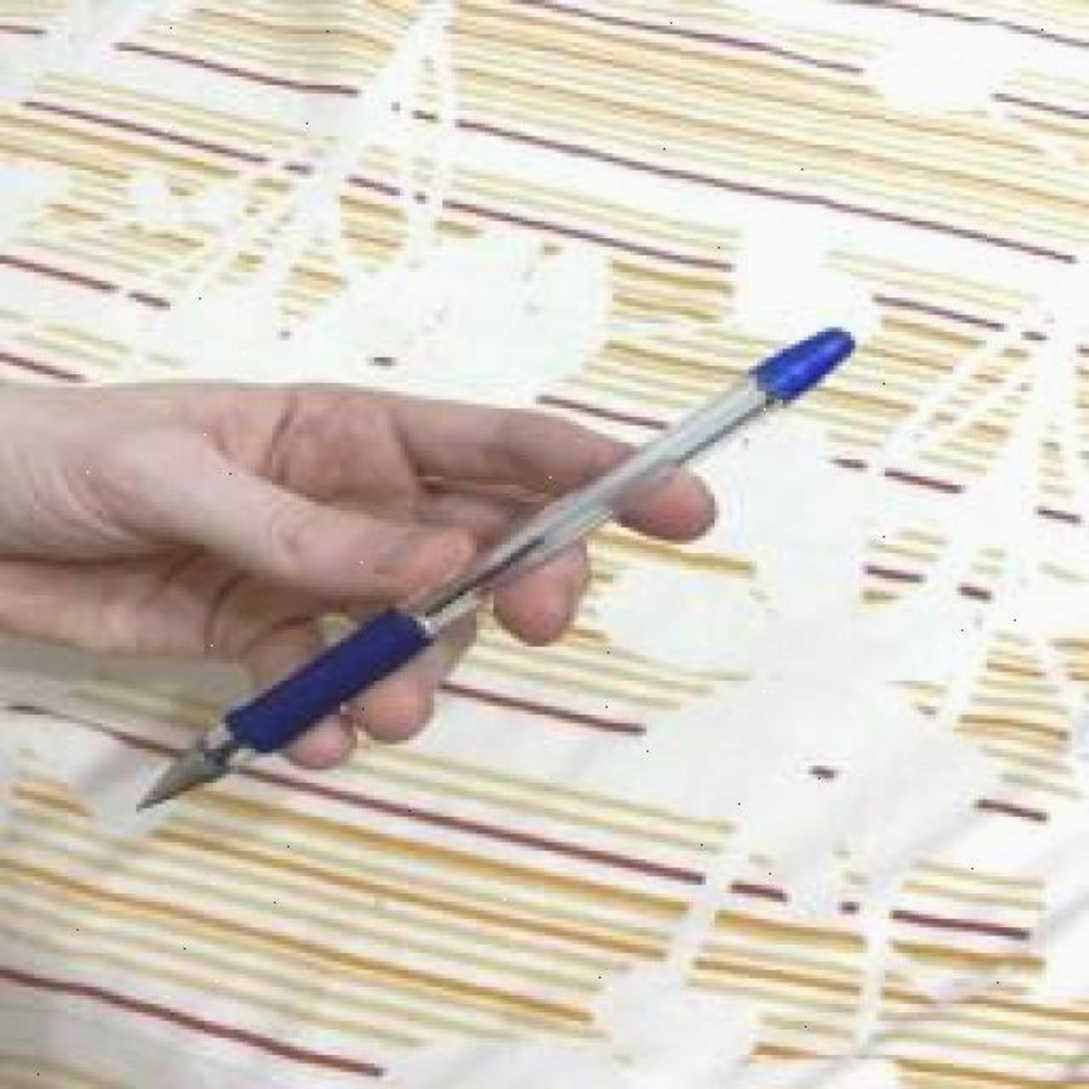pen: (136, 328, 859, 818)
